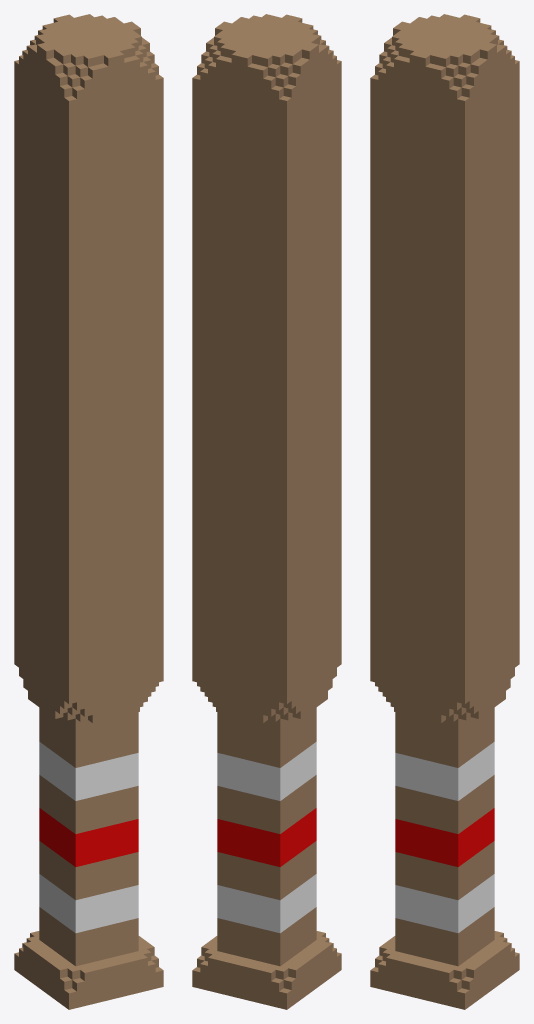
The model's file is Bat.obj.
The picture shows the model from 3 angles, left to right: view 1: azimuth 30°, elevation 25°; view 2: azimuth 150°, elevation 25°; view 3: azimuth 330°, elevation 25°; orthographic projection.
Bounding box in the file's own units: 1.2 × 11.4 × 1.2.
